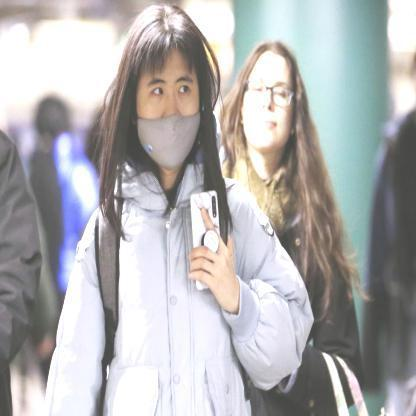with_mask: (112, 15, 222, 175)
without_mask: (231, 36, 314, 162)
